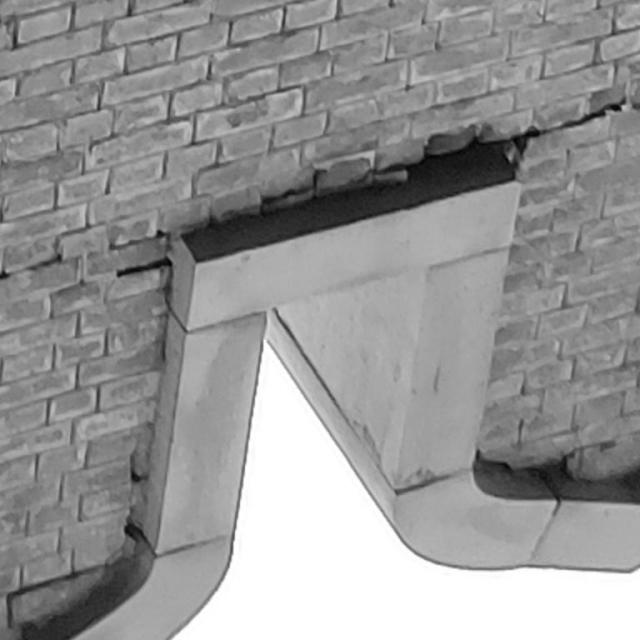crack: (155, 96, 639, 238), (104, 435, 141, 564), (475, 448, 573, 480), (113, 256, 172, 276)
